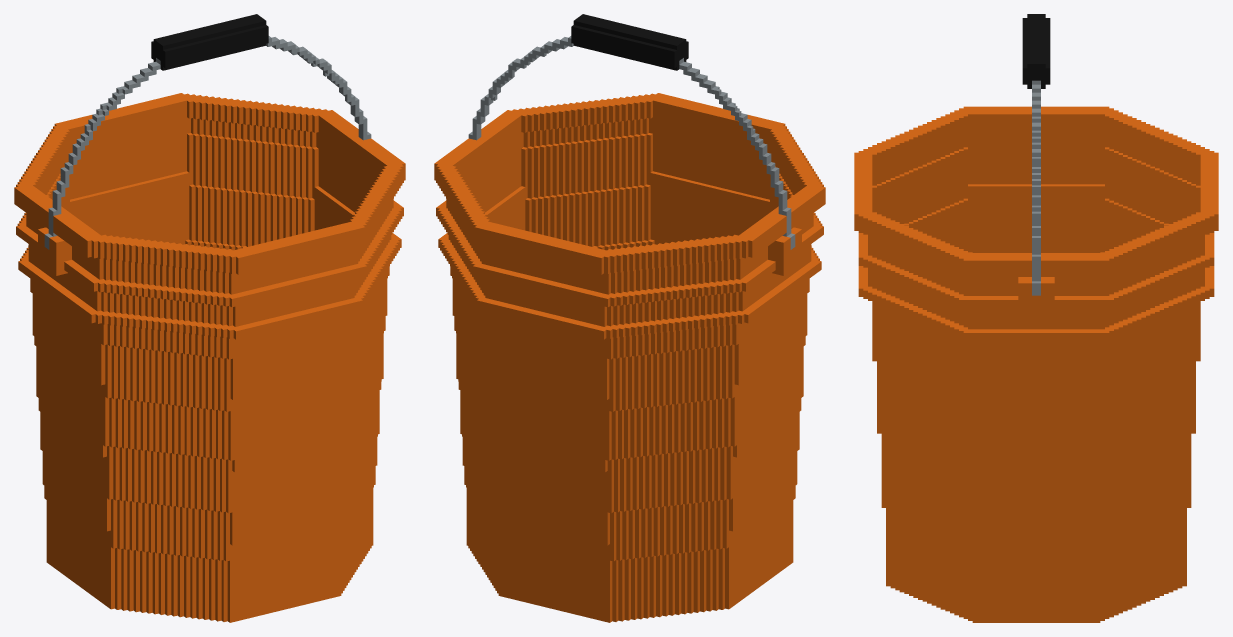
The model's file is bucket_5gal.glb.
The picture shows the model from 3 angles, left to right: view 1: azimuth 30°, elevation 25°; view 2: azimuth 150°, elevation 25°; view 3: azimuth 270°, elevation 25°; orthographic projection.
Parts seen in each view (by area): view 1: bucket_5gal:compound; view 2: bucket_5gal:compound; view 3: bucket_5gal:compound.
Boxes of the visible parts, x1=… form: bucket_5gal:compound: x1=14, y1=14, x2=405, y2=622; bucket_5gal:compound: x1=434, y1=14, x2=825, y2=622; bucket_5gal:compound: x1=854, y1=14, x2=1218, y2=622.
Size of the model in its own units: 0.328 by 0.504 by 0.32.
